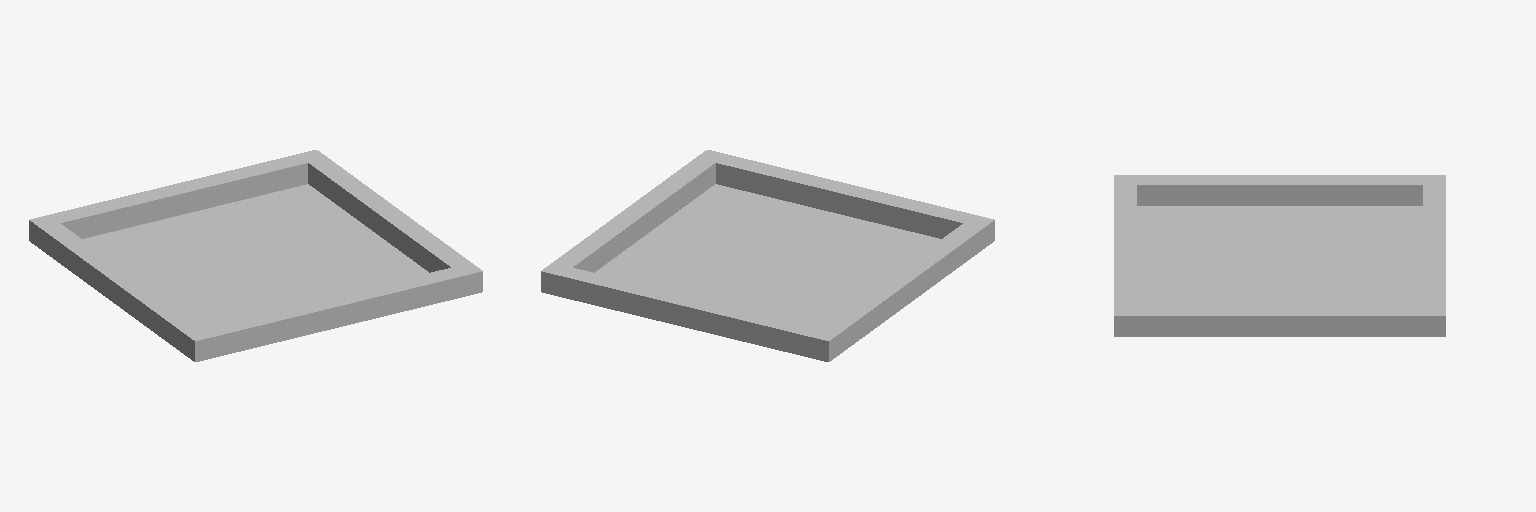
File: scaffolding-floor.obj
3 renders of one model, left to right at view 1: azimuth 30°, elevation 25°; view 2: azimuth 150°, elevation 25°; view 3: azimuth 270°, elevation 25°, orthographic.
Visible parts, largest first — view 1: scaffolding-floor; view 2: scaffolding-floor; view 3: scaffolding-floor.
Boxes of the visible parts, box(x1,y1,x2,y2) form: scaffolding-floor: box(29, 150, 482, 361); scaffolding-floor: box(541, 150, 994, 361); scaffolding-floor: box(1114, 175, 1445, 336).
Bounding box in the file's own units: 1 × 0.07 × 1.